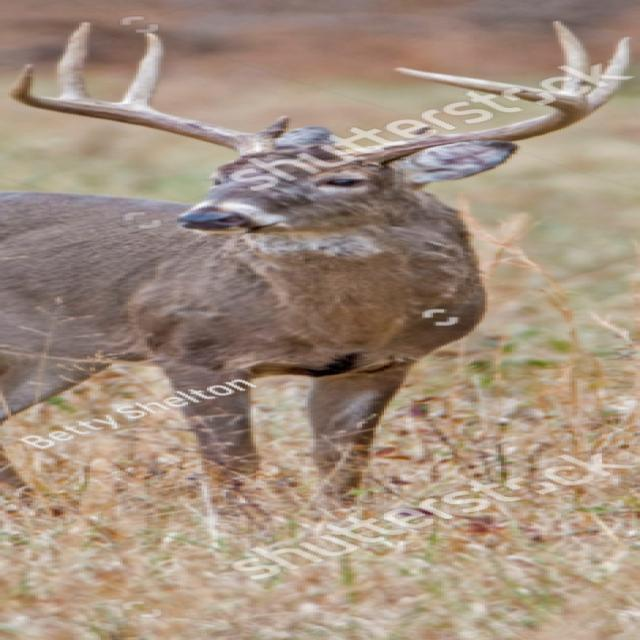L-F: (342, 66, 586, 165)
L-G1: (586, 35, 634, 117)
L-G2: (549, 18, 592, 94)
R-F: (8, 62, 276, 157)
R-G1: (253, 115, 292, 142)
R-G2: (118, 32, 166, 110)
R-G3: (55, 21, 94, 101)
